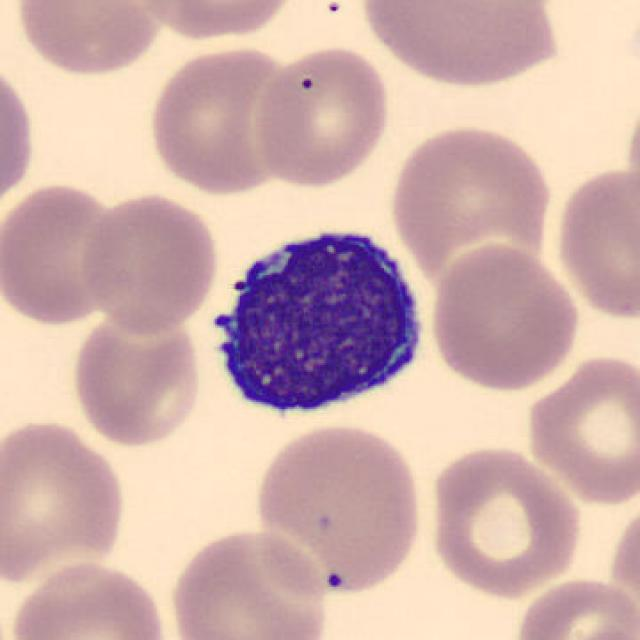Lymphocyte: (194, 212, 437, 432)
RBC: (249, 420, 427, 594), (384, 118, 558, 289), (425, 441, 587, 601), (144, 42, 299, 198), (427, 242, 583, 393), (0, 414, 130, 591), (78, 189, 222, 335), (251, 42, 393, 190), (68, 304, 206, 452), (165, 523, 332, 640), (0, 178, 128, 328), (521, 349, 640, 510), (356, 0, 567, 90), (551, 162, 638, 323), (7, 557, 174, 640), (10, 0, 167, 79), (506, 573, 634, 640), (131, 0, 304, 42), (0, 53, 39, 217), (606, 494, 640, 631), (620, 85, 640, 246)
